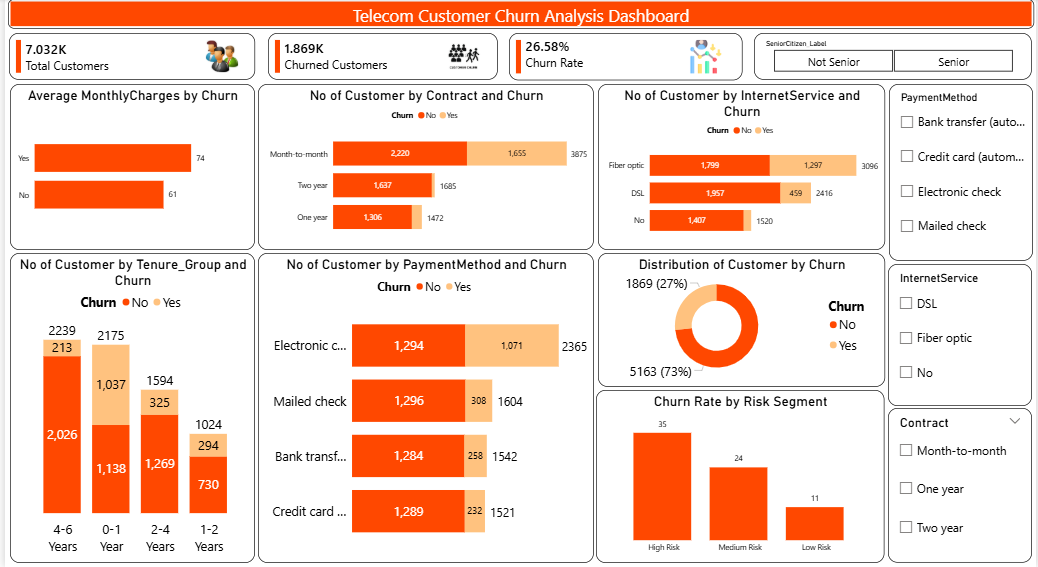

This screenshot's page, from the dashboard's own definition file:
{"tool":"powerbi","page":{"name":"Telecom Customer Churn Analysis Dashboard","canvas":[1635,900],"ordinal":0},"visuals":[{"type":"cardVisual","fields":{"Data":["Telco_Customer_Churn_Cleaned.Total_Customers"]},"box":[6.3,53.9,389.8,74.5],"z":0},{"type":"cardVisual","fields":{"Data":["Telco_Customer_Churn_Cleaned.Churned_Customer"]},"box":[416,53.9,364.4,74.5],"z":1000},{"type":"cardVisual","fields":{"Data":["Telco_Customer_Churn_Cleaned.Churn Rate"]},"box":[798,54,370.1,75],"z":2000},{"type":"donutChart","fields":{"Category":["Telco_Customer_Churn_Cleaned.Churn"],"Y":["CountNonNull(Telco_Customer_Churn_Cleaned.customerID)"]},"box":[939,401.9,454.9,211.9],"z":3000},{"type":"barChart","fields":{"Category":["Telco_Customer_Churn_Cleaned.Contract"],"Y":["CountNonNull(Telco_Customer_Churn_Cleaned.customerID)"],"Series":["Telco_Customer_Churn_Cleaned.Churn"]},"box":[400.9,134.7,532.4,263],"z":4000},{"type":"barChart","fields":{"Y":["CountNonNull(Telco_Customer_Churn_Cleaned.customerID)"],"Series":["Telco_Customer_Churn_Cleaned.Churn"],"Category":["Telco_Customer_Churn_Cleaned.PaymentMethod"]},"box":[400.9,402.5,532.4,491.2],"z":5000},{"type":"barChart","fields":{"Y":["CountNonNull(Telco_Customer_Churn_Cleaned.customerID)"],"Series":["Telco_Customer_Churn_Cleaned.Churn"],"Category":["Telco_Customer_Churn_Cleaned.InternetService"]},"box":[939.6,134.7,455,263],"z":6000},{"type":"columnChart","fields":{"Y":["CountNonNull(Telco_Customer_Churn_Cleaned.customerID)"],"Series":["Telco_Customer_Churn_Cleaned.Churn"],"Category":["Telco_Customer_Churn_Cleaned.Tenure_Group"]},"box":[7.9,402.5,388.2,491.2],"z":7000},{"type":"slicer","fields":{"Values":["Telco_Customer_Churn_Cleaned.PaymentMethod"]},"box":[1400,134.7,228.2,280],"z":8000},{"type":"slicer","fields":{"Values":["Telco_Customer_Churn_Cleaned.SeniorCitizen_Label"]},"box":[1186.8,53.9,440.5,74.5],"z":9000},{"type":"slicer","fields":{"Values":["Telco_Customer_Churn_Cleaned.Contract"]},"box":[1399.3,648.5,228.4,244.8],"z":10000},{"type":"slicer","fields":{"Values":["Telco_Customer_Churn_Cleaned.InternetService"]},"box":[1399.3,420.2,228.4,224.7],"z":11000},{"type":"actionButton","box":[5.5,0,1625.9,47.5],"z":12000},{"type":"clusteredBarChart","fields":{"Y":["Avg(Telco_Customer_Churn_Cleaned.MonthlyCharges)"],"Category":["Telco_Customer_Churn_Cleaned.Churn"]},"box":[7.9,134.7,388,263],"z":13000},{"type":"clusteredColumnChart","title":"Churn Rate by Risk Segment","fields":{"Category":["Telco_Customer_Churn_Cleaned.Risk_Category"],"Y":["Telco_Customer_Churn_Cleaned.Churn_Rate_%"]},"box":[937.2,619.3,456.7,274],"z":14000}]}

Visuals, with their boxes in screenshot pixels (x1, y1, x2, y2), scaled from the page's 1635x900 canvas onto the 1038x567 screenshot:
cardVisual - Telco_Customer_Churn_Cleaned.Total_Customers: Rect(4, 34, 251, 81)
cardVisual - Telco_Customer_Churn_Cleaned.Churned_Customer: Rect(264, 34, 495, 81)
cardVisual - Telco_Customer_Churn_Cleaned.Churn Rate: Rect(507, 34, 742, 81)
donutChart - Telco_Customer_Churn_Cleaned.Churn x CountNonNull(Telco_Customer_Churn_Cleaned.customerID): Rect(596, 253, 885, 387)
barChart - Telco_Customer_Churn_Cleaned.Contract x CountNonNull(Telco_Customer_Churn_Cleaned.customerID): Rect(255, 85, 593, 251)
barChart - CountNonNull(Telco_Customer_Churn_Cleaned.customerID) x Telco_Customer_Churn_Cleaned.Churn: Rect(255, 254, 593, 563)
barChart - CountNonNull(Telco_Customer_Churn_Cleaned.customerID) x Telco_Customer_Churn_Cleaned.Churn: Rect(597, 85, 885, 251)
columnChart - CountNonNull(Telco_Customer_Churn_Cleaned.customerID) x Telco_Customer_Churn_Cleaned.Churn: Rect(5, 254, 251, 563)
slicer - Telco_Customer_Churn_Cleaned.PaymentMethod: Rect(889, 85, 1034, 261)
slicer - Telco_Customer_Churn_Cleaned.SeniorCitizen_Label: Rect(753, 34, 1033, 81)
slicer - Telco_Customer_Churn_Cleaned.Contract: Rect(888, 409, 1033, 563)
slicer - Telco_Customer_Churn_Cleaned.InternetService: Rect(888, 265, 1033, 406)
actionButton: Rect(3, 0, 1036, 30)
clusteredBarChart - Avg(Telco_Customer_Churn_Cleaned.MonthlyCharges) x Telco_Customer_Churn_Cleaned.Churn: Rect(5, 85, 251, 251)
"Churn Rate by Risk Segment" clusteredColumnChart: Rect(595, 390, 885, 563)
